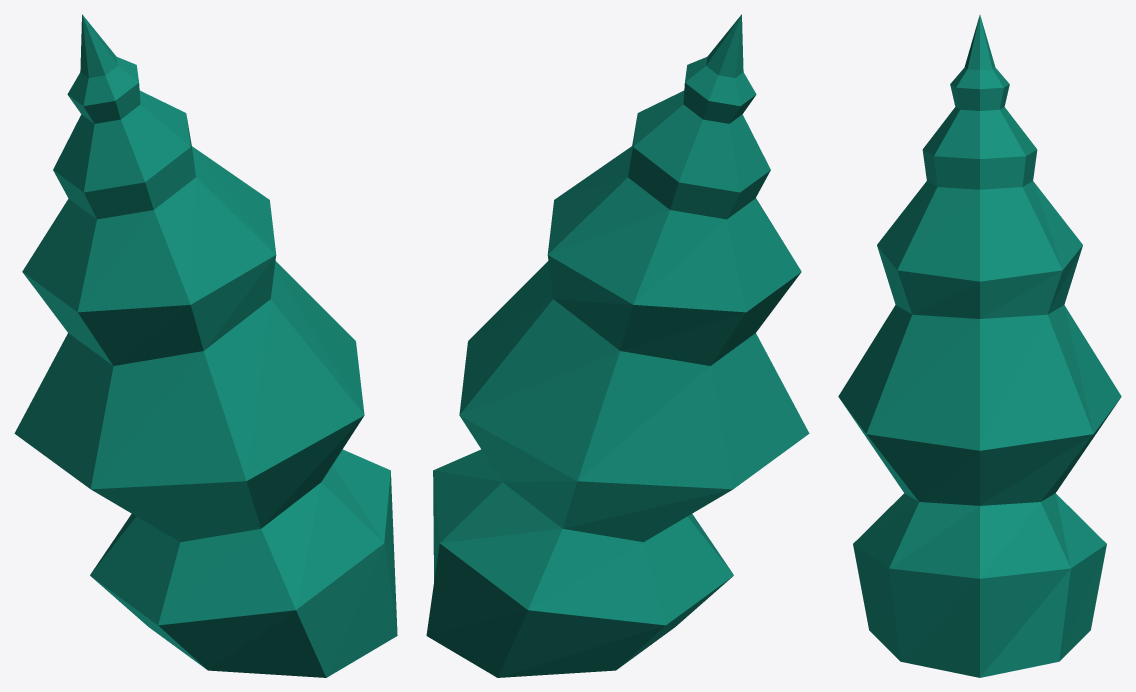
The model's file is shell.obj.
The picture shows the model from 3 angles, left to right: view 1: azimuth 30°, elevation 25°; view 2: azimuth 150°, elevation 25°; view 3: azimuth 270°, elevation 25°; orthographic projection. The views are drawn at different scales.
Bounding box in the file's own units: 2.84 × 5.24 × 2.47.
